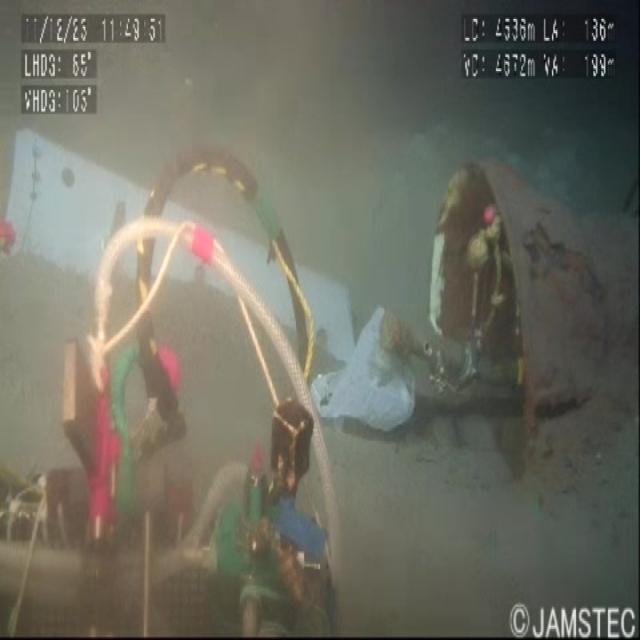Metal: (5, 120, 640, 438)
